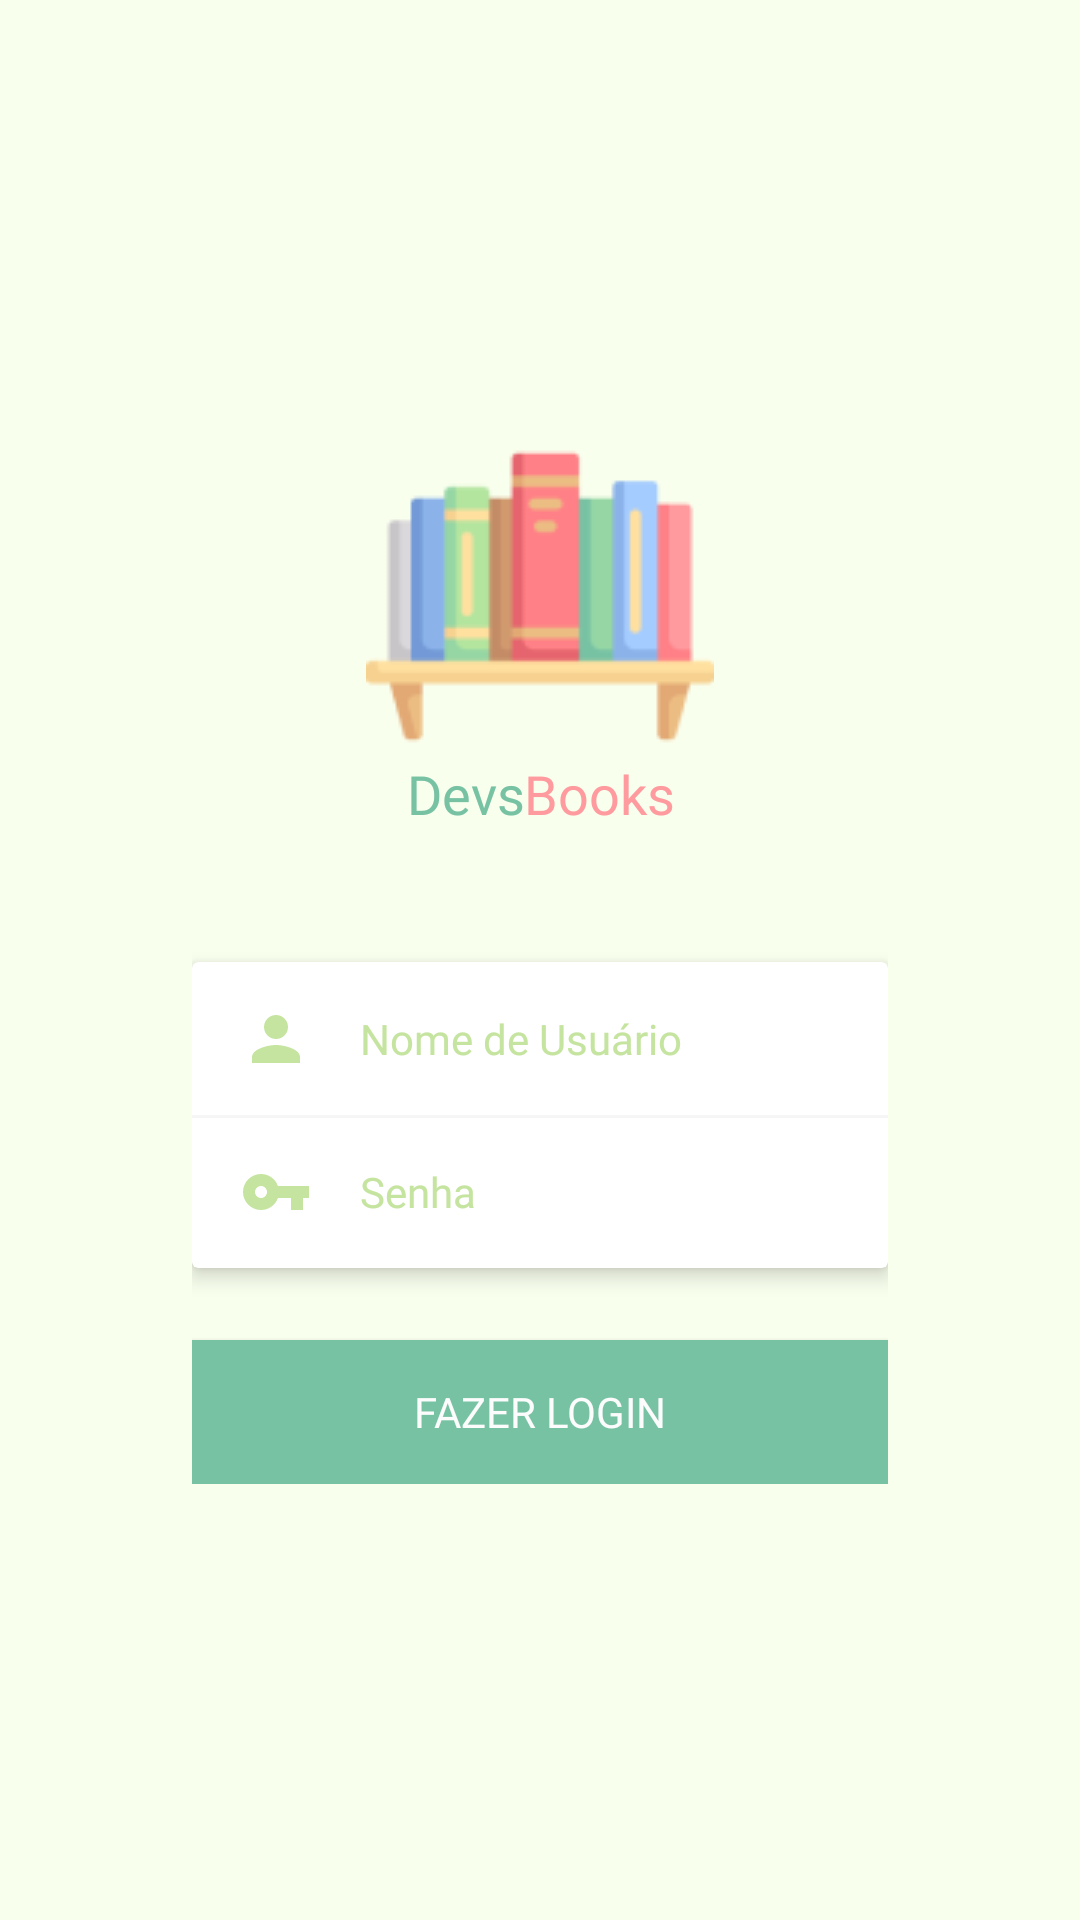

Where to tap for icons on this 1080px×1920px app screen, as [x,y]:
person: [276,1039]
vpn key: [276,1192]
